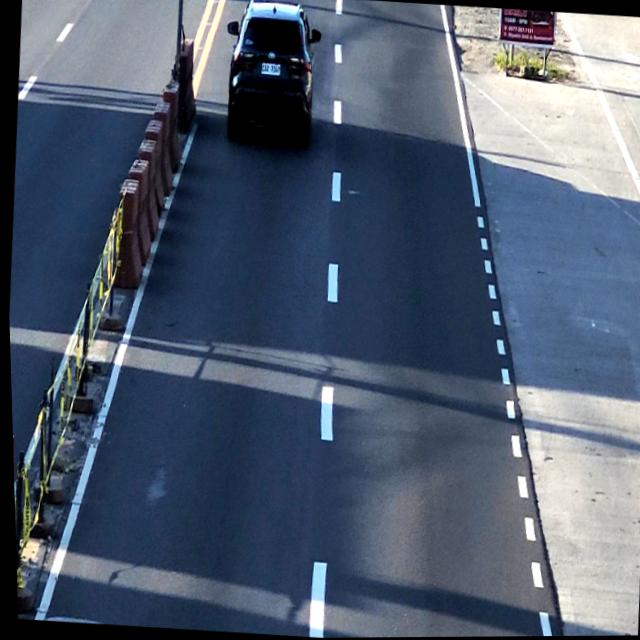Car: (220, 0, 319, 142)
License-Plate: (258, 60, 281, 77)
